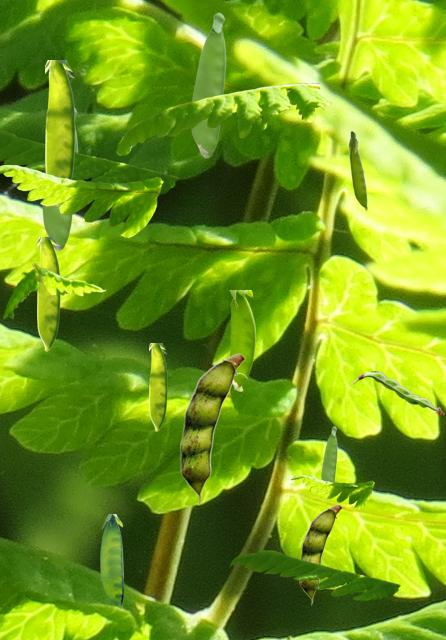pea: (180, 353, 244, 504), (42, 108, 77, 250), (191, 12, 225, 157), (45, 60, 74, 205), (299, 504, 341, 604), (352, 371, 443, 413), (229, 290, 254, 390), (37, 237, 59, 350), (100, 514, 122, 608), (348, 130, 367, 211), (149, 343, 166, 430), (321, 426, 336, 481)
